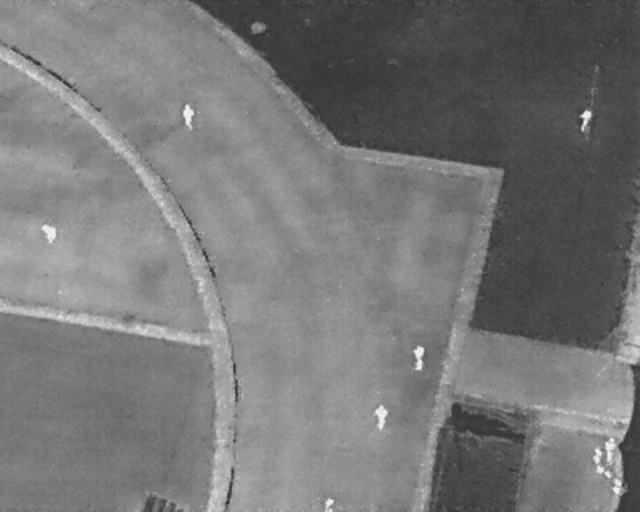DontCare: (589, 432, 630, 500)
Person: (178, 103, 198, 130), (412, 342, 426, 371), (373, 404, 388, 431), (41, 223, 57, 244), (579, 108, 590, 133), (321, 494, 336, 507)
